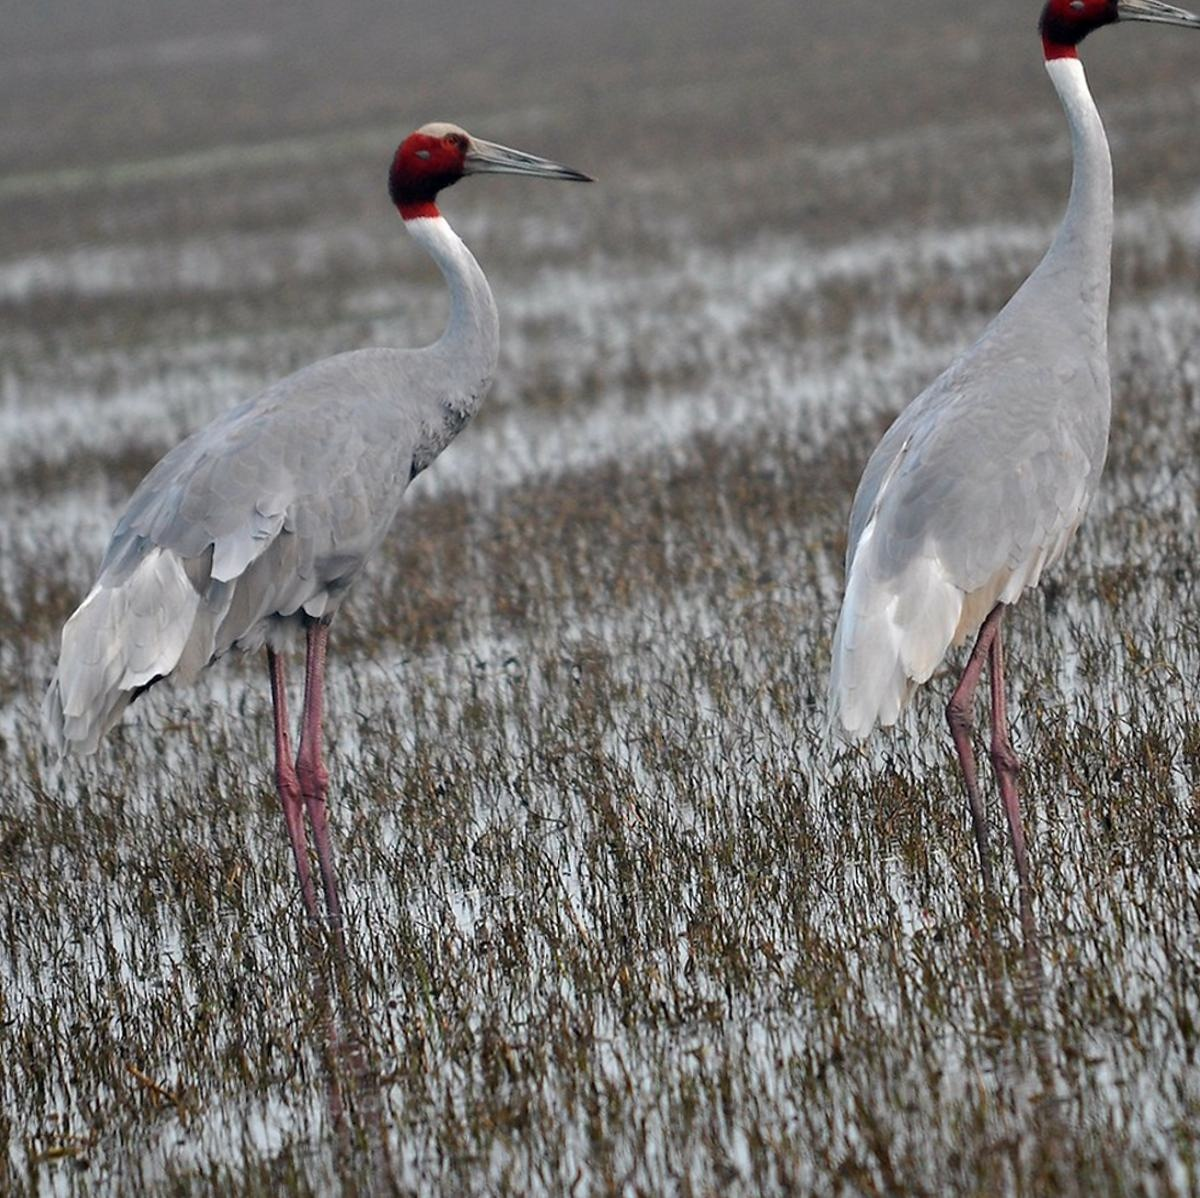crane: (1, 117, 600, 891), (762, 1, 1200, 820)
